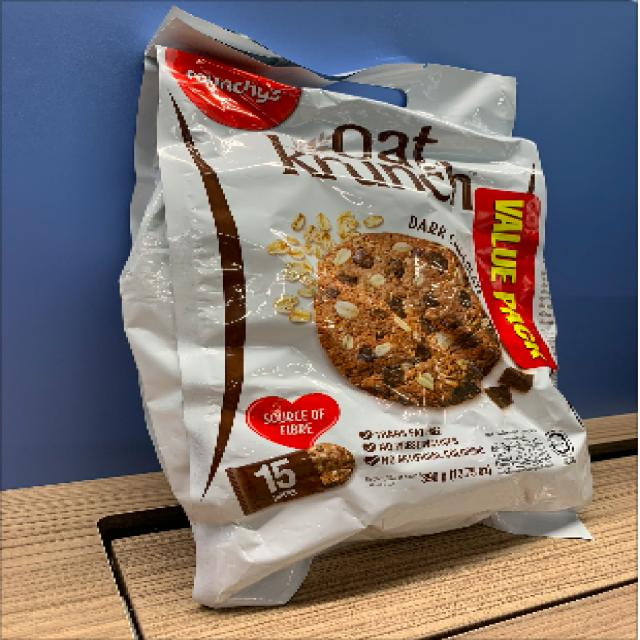object_name: (155, 60, 568, 540)
